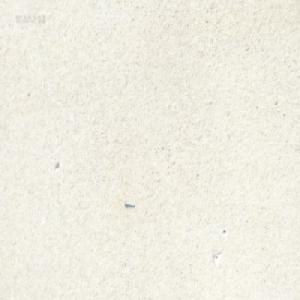Nail: (124, 200, 135, 208)
